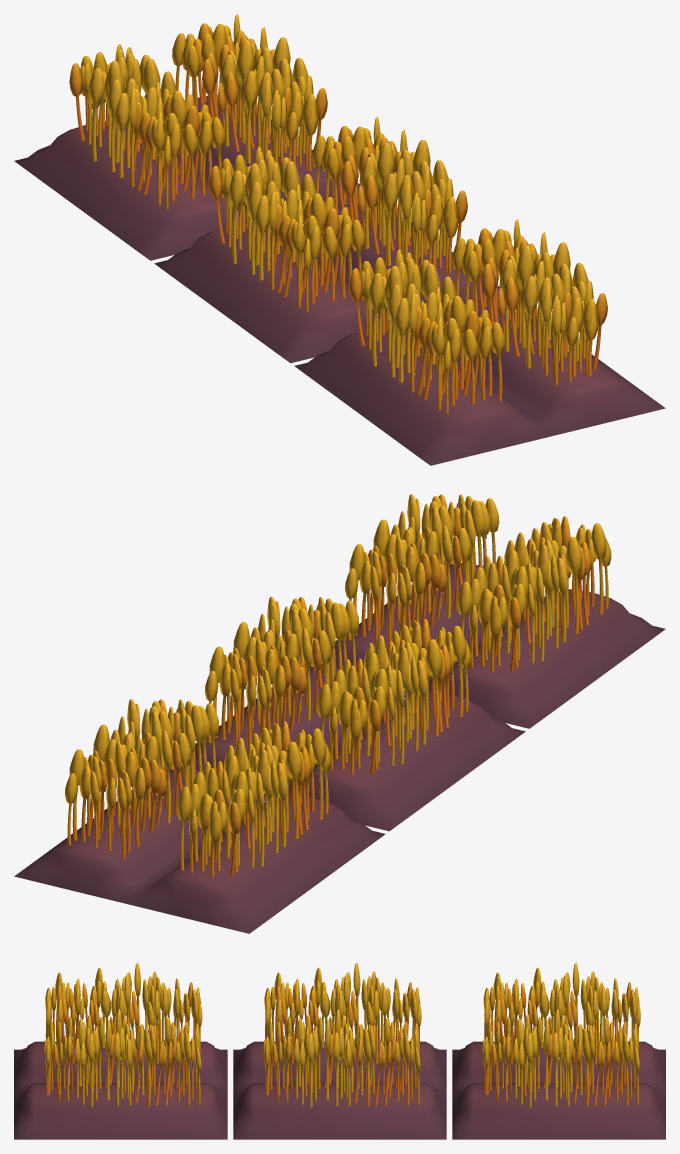
File: village_long_wheat_3.gltf
The picture shows the model from 3 angles, top to bottom: view 1: azimuth 30°, elevation 25°; view 2: azimuth 150°, elevation 25°; view 3: azimuth 270°, elevation 25°; orthographic projection. The views are drawn at different scales.
Parts seen in each view (by area): view 1: Farm_Wheat.013_Material.005_0 (×5), Farm_Wheat.015_Material.005_0 (×5), Farm_Wheat.014_Material.005_0 (×5); view 2: Farm_Wheat.015_Material.005_0 (×3), Farm_Wheat.014_Material.005_0 (×3), Farm_Wheat.013_Material.005_0 (×3); view 3: Farm_Wheat.013_Material.005_0 (×8), Farm_Wheat.014_Material.005_0 (×7), Farm_Wheat.015_Material.005_0 (×7).
Part boxes in pixels (x1=…): Farm_Wheat.013_Material.005_0 (×5): x1=294, y1=245, x2=665, y2=465; Farm_Wheat.015_Material.005_0 (×5): x1=14, y1=40, x2=359, y2=260; Farm_Wheat.014_Material.005_0 (×5): x1=154, y1=142, x2=499, y2=363; Farm_Wheat.015_Material.005_0 (×3): x1=14, y1=728, x2=385, y2=933; Farm_Wheat.014_Material.005_0 (×3): x1=170, y1=625, x2=525, y2=831; Farm_Wheat.013_Material.005_0 (×3): x1=310, y1=523, x2=665, y2=728; Farm_Wheat.013_Material.005_0 (×8): x1=14, y1=990, x2=227, y2=1139; Farm_Wheat.014_Material.005_0 (×7): x1=233, y1=1017, x2=446, y2=1139; Farm_Wheat.015_Material.005_0 (×7): x1=452, y1=1020, x2=665, y2=1139.
Bounding box in the file's own units: 0.9957 × 0.5331 × 3.05.
Materials: 1 (1 with a texture image).
